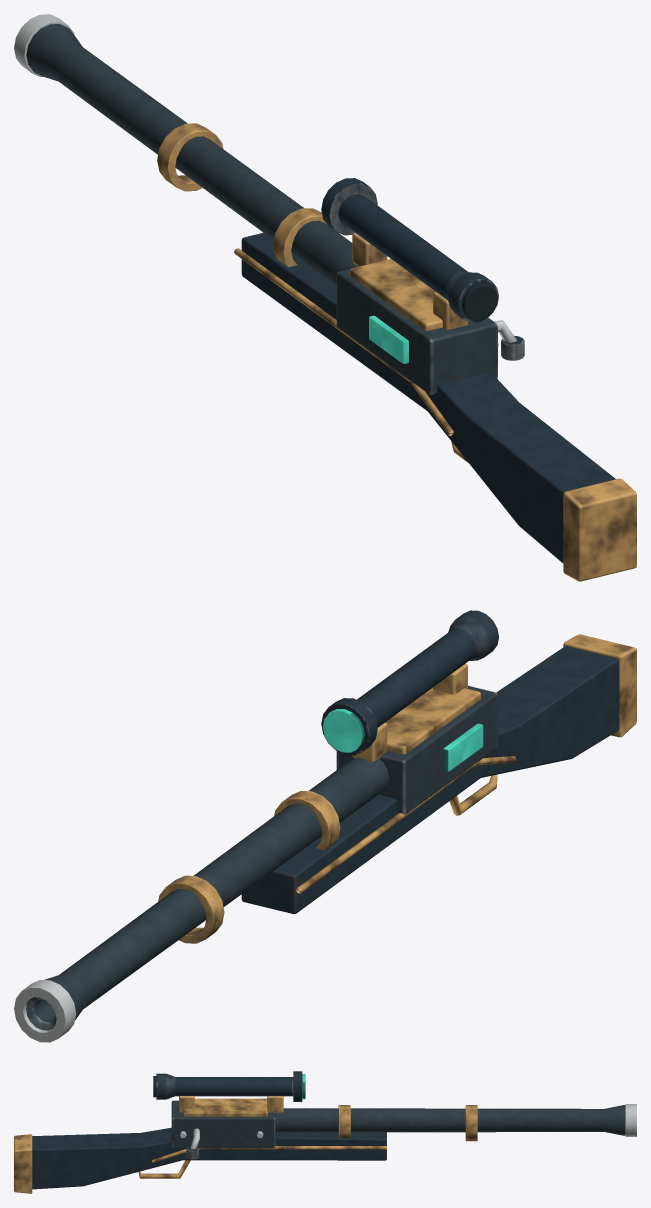
Rendered from rifle.glb.
3 views of the same model, one above another, from view 1: azimuth 30°, elevation 25°; view 2: azimuth 150°, elevation 25°; view 3: azimuth 270°, elevation 25° (orthographic). The views are drawn at different scales.
Parts seen in each view (by area): view 1: v3_rifle__navy_stock, v3_rifle__precision_barrel, v3_rifle__receiver, v3_rifle__optic_tube, v3_rifle__butt_plate, v3_rifle__breech_cover, v3_rifle__floating_barrel_brace_0, v3_rifle__foregrip_trim_neg0p051, v3_rifle__floating_barrel_brace_1, v3_rifle__charge_inlay, v3_rifle__optic_back_lens, v3_rifle__muzzle_crown; view 2: v3_rifle__navy_stock, v3_rifle__precision_barrel, v3_rifle__optic_tube, v3_rifle__receiver, v3_rifle__breech_cover, v3_rifle__butt_plate, v3_rifle__muzzle_crown, v3_rifle__floating_barrel_brace_0, v3_rifle__foregrip_trim_neg0p051, v3_rifle__floating_barrel_brace_1, v3_rifle__optic_front_lens, v3_rifle__charge_inlay (+3 smaller); view 3: v3_rifle__navy_stock, v3_rifle__precision_barrel, v3_rifle__receiver, v3_rifle__optic_tube, v3_rifle__breech_cover, v3_rifle__butt_plate, v3_rifle__foregrip_trim_0p051, v3_rifle__floating_barrel_brace_0, v3_rifle__floating_barrel_brace_1, v3_rifle__muzzle_crown, v3_rifle__trigger_guard, v3_rifle__optic_pedestal_0 (+1 smaller).
Part boxes in pixels (x1=…): v3_rifle__navy_stock: x1=241, y1=232, x2=615, y2=563; v3_rifle__precision_barrel: x1=26, y1=24, x2=358, y2=286; v3_rifle__receiver: x1=336, y1=269, x2=497, y2=394; v3_rifle__optic_tube: x1=321, y1=178, x2=498, y2=322; v3_rifle__butt_plate: x1=563, y1=478, x2=636, y2=581; v3_rifle__breech_cover: x1=350, y1=259, x2=442, y2=330; v3_rifle__floating_barrel_brace_0: x1=157, y1=123, x2=223, y2=191; v3_rifle__foregrip_trim_neg0p051: x1=234, y1=248, x2=453, y2=435; v3_rifle__floating_barrel_brace_1: x1=273, y1=208, x2=327, y2=267; v3_rifle__charge_inlay: x1=369, y1=315, x2=408, y2=363; v3_rifle__optic_back_lens: x1=462, y1=283, x2=497, y2=320; v3_rifle__muzzle_crown: x1=14, y1=14, x2=74, y2=76; v3_rifle__navy_stock: x1=241, y1=646, x2=619, y2=914; v3_rifle__precision_barrel: x1=26, y1=758, x2=389, y2=1030; v3_rifle__optic_tube: x1=321, y1=610, x2=498, y2=755; v3_rifle__receiver: x1=336, y1=686, x2=497, y2=814; v3_rifle__breech_cover: x1=385, y1=687, x2=480, y2=754; v3_rifle__butt_plate: x1=563, y1=634, x2=636, y2=737; v3_rifle__muzzle_crown: x1=14, y1=980, x2=76, y2=1042; v3_rifle__floating_barrel_brace_0: x1=158, y1=875, x2=224, y2=943; v3_rifle__foregrip_trim_neg0p051: x1=296, y1=756, x2=516, y2=893; v3_rifle__floating_barrel_brace_1: x1=274, y1=791, x2=340, y2=849; v3_rifle__optic_front_lens: x1=323, y1=709, x2=364, y2=752; v3_rifle__charge_inlay: x1=443, y1=723, x2=483, y2=771; v3_rifle__navy_stock: x1=32, y1=1127, x2=386, y2=1189; v3_rifle__precision_barrel: x1=275, y1=1105, x2=625, y2=1135; v3_rifle__receiver: x1=171, y1=1100, x2=275, y2=1148; v3_rifle__optic_tube: x1=156, y1=1071, x2=302, y2=1101; v3_rifle__breech_cover: x1=183, y1=1098, x2=267, y2=1116; v3_rifle__butt_plate: x1=14, y1=1134, x2=32, y2=1193; v3_rifle__foregrip_trim_0p051: x1=152, y1=1146, x2=386, y2=1163; v3_rifle__floating_barrel_brace_0: x1=465, y1=1105, x2=477, y2=1141; v3_rifle__floating_barrel_brace_1: x1=338, y1=1105, x2=350, y2=1137; v3_rifle__muzzle_crown: x1=625, y1=1104, x2=636, y2=1136; v3_rifle__trigger_guard: x1=138, y1=1160, x2=190, y2=1178; v3_rifle__optic_pedestal_0: x1=267, y1=1096, x2=283, y2=1112.
Bounding box in the file's own units: 0.1938 × 0.3266 × 1.62.
Materials: 2 (2 with a texture image).
